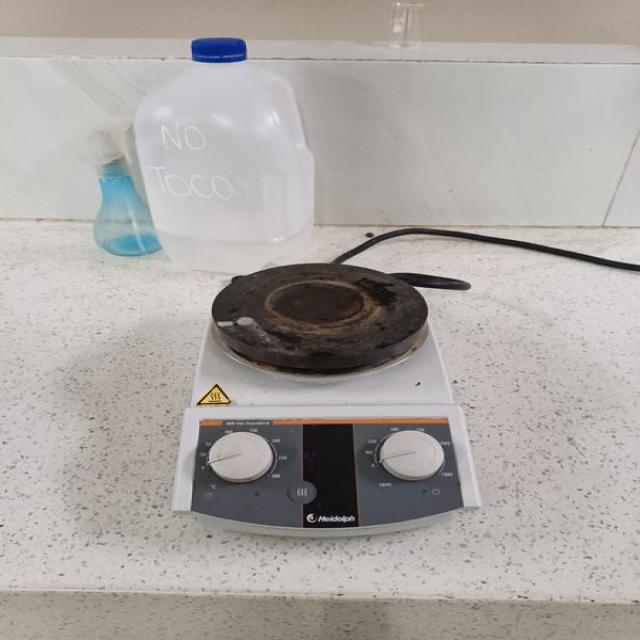Placa Calefactora con Agitador MagneticoMetalico: (172, 261, 479, 537)
